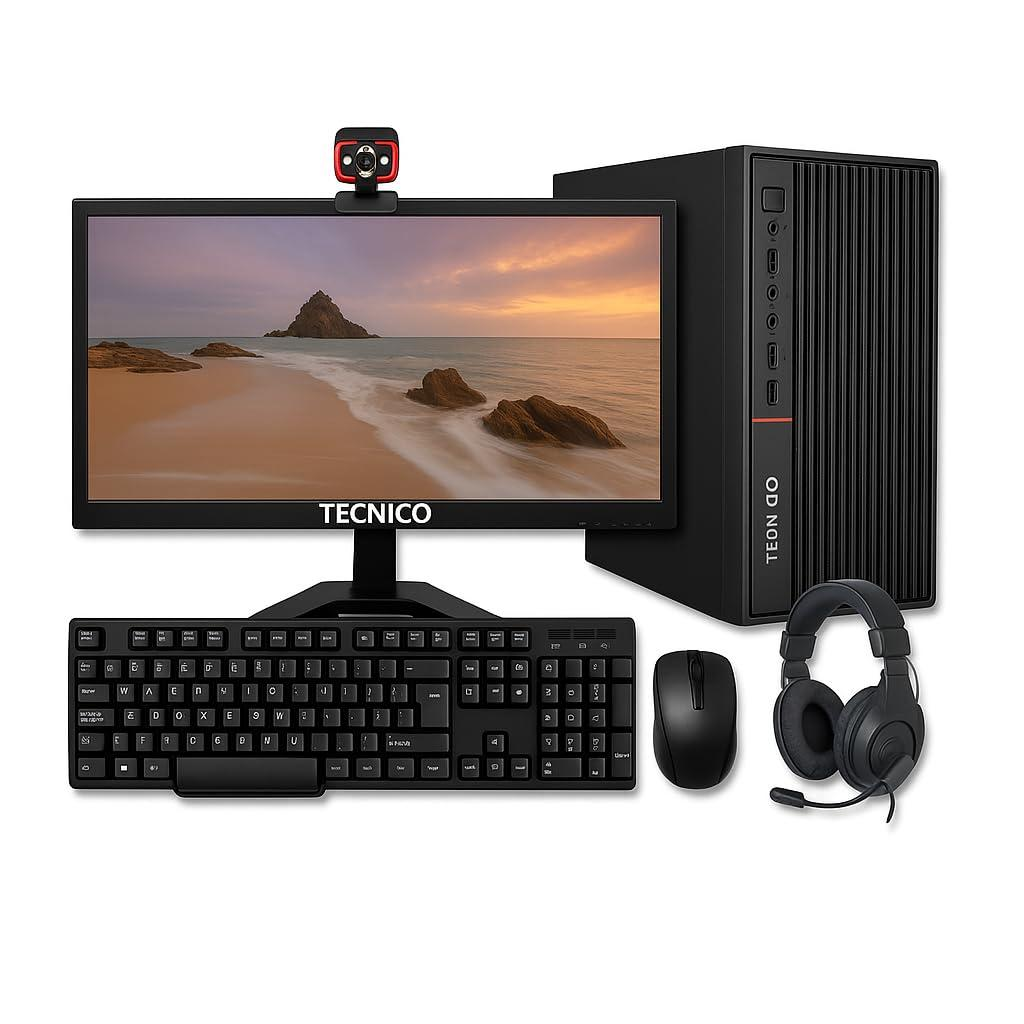keyboard: (62, 600, 642, 805)
monitor: (67, 190, 688, 550)
mouse: (647, 627, 745, 808)
pc: (690, 132, 943, 625)
